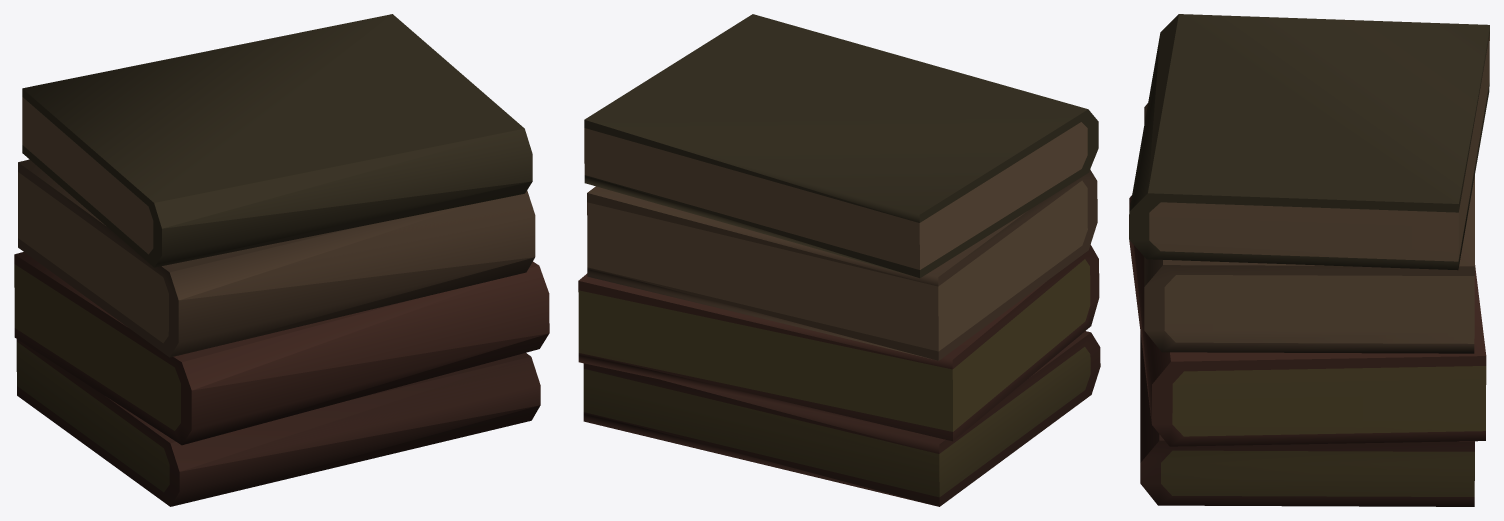
Rendered from pq_pile_livres.glb.
The picture shows the model from 3 angles, left to right: view 1: azimuth 30°, elevation 25°; view 2: azimuth 150°, elevation 25°; view 3: azimuth 270°, elevation 25°; orthographic projection. The views are drawn at different scales.
Parts seen in each view (by area): view 1: Book_Stack_1; view 2: Book_Stack_1; view 3: Book_Stack_1.
Part boxes in pixels (bbox=[...]): Book_Stack_1: bbox=[14, 14, 549, 506]; Book_Stack_1: bbox=[578, 14, 1100, 506]; Book_Stack_1: bbox=[1129, 14, 1489, 506].
Bounding box in the file's own units: 0.2507 × 0.1881 × 0.1991.
